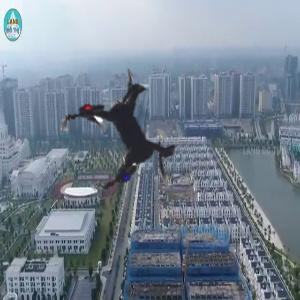drone: (21, 30, 239, 248)
